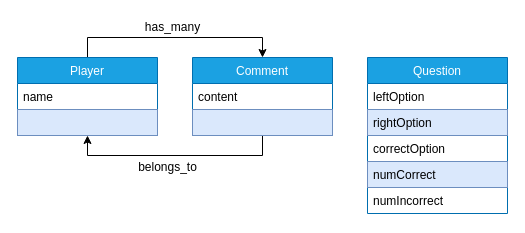
Image size: 525x233. Some labels were removed from this diagram. Each missing label, with the centre of its shape:
"player_id" belongs at point 262,122.
"score" belongs at point 87,122.
